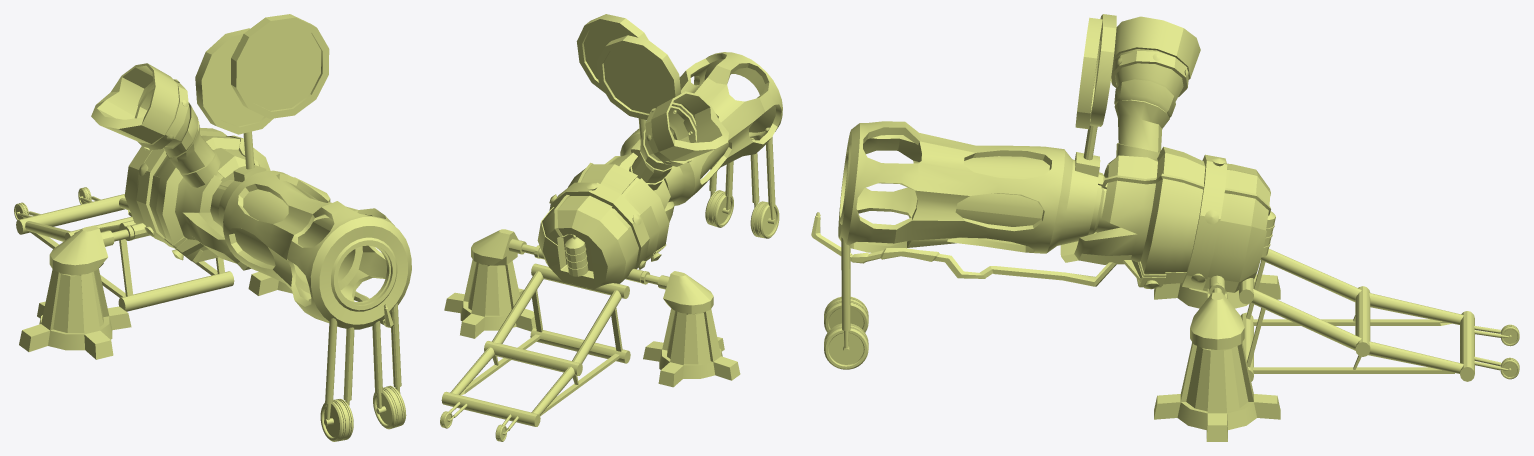
Rendered from SniperFlameThrower_low.fbx.
The picture shows the model from 3 angles, left to right: view 1: azimuth 30°, elevation 25°; view 2: azimuth 150°, elevation 25°; view 3: azimuth 270°, elevation 25°; orthographic projection. The views are drawn at different scales.
Parts seen in each view (by area): view 1: GunBarrel_low, Scope_low, feets_low, Chimney_low, MainBodyBase_low, littlewheel_low, Wheel_low, bigbelt_low, bodypanel_low, belt_low, mainbodyornaments_low; view 2: feets_low, littlewheel_low, GunBarrel_low, Scope_low, bodypanel_low, Chimney_low, MainBodyBase_low, Wheel_low, bigbelt_low, cable_low, belt_low, screws_low; view 3: GunBarrel_low, MainBodyBase_low, littlewheel_low, feets_low, Chimney_low, Scope_low, Wheel_low, bodypanel_low, Pipe_low, bigbelt_low, cable_low, belt_low.
Boxes of the visible parts, <box> form: GunBarrel_low: <box>218,165,411,329</box>; Scope_low: <box>195,14,329,169</box>; feets_low: <box>19,177,330,359</box>; Chimney_low: <box>91,63,220,187</box>; MainBodyBase_low: <box>144,135,270,270</box>; littlewheel_low: <box>14,187,234,311</box>; Wheel_low: <box>320,303,406,441</box>; bigbelt_low: <box>136,127,227,248</box>; bodypanel_low: <box>124,146,168,242</box>; belt_low: <box>135,81,188,150</box>; mainbodyornaments_low: <box>164,236,203,263</box>; feets_low: <box>444,229,740,387</box>; littlewheel_low: <box>440,263,630,441</box>; GunBarrel_low: <box>620,52,782,205</box>; Scope_low: <box>576,14,680,141</box>; bodypanel_low: <box>537,196,659,289</box>; Chimney_low: <box>629,91,728,190</box>; MainBodyBase_low: <box>542,152,674,278</box>; Wheel_low: <box>705,127,779,238</box>; bigbelt_low: <box>549,182,649,269</box>; cable_low: <box>554,156,620,276</box>; belt_low: <box>645,106,696,166</box>; screws_low: <box>549,108,692,269</box>; GunBarrel_low: <box>838,121,1100,253</box>; MainBodyBase_low: <box>1060,146,1270,274</box>; littlewheel_low: <box>1239,249,1519,381</box>; feets_low: <box>1154,274,1280,441</box>; Chimney_low: <box>1113,16,1200,159</box>; Scope_low: <box>1075,14,1116,160</box>; Wheel_low: <box>824,237,868,369</box>; bodypanel_low: <box>1163,163,1270,292</box>; Pipe_low: <box>811,212,1116,286</box>; bigbelt_low: <box>1181,154,1227,290</box>; cable_low: <box>1101,173,1275,257</box>; belt_low: <box>1111,50,1188,97</box>.
Size of the model in its own units: 1470 by 1401 by 2536.
